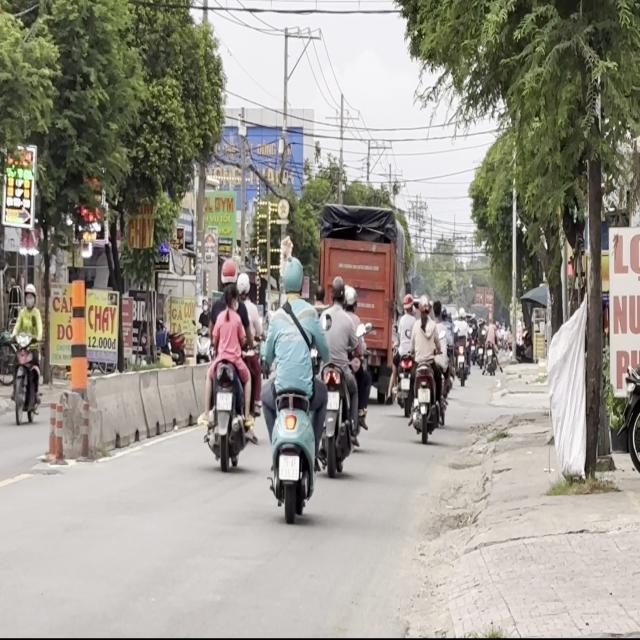helmet: (280, 255, 304, 298), (219, 257, 237, 292), (330, 274, 346, 304), (236, 271, 250, 298)
licenseplate: (258, 253, 326, 521), (201, 256, 258, 468), (320, 272, 368, 473)
motorcyclist: (224, 282, 239, 315)
nohelmet: (278, 455, 299, 480), (216, 391, 232, 411), (326, 391, 338, 409)
